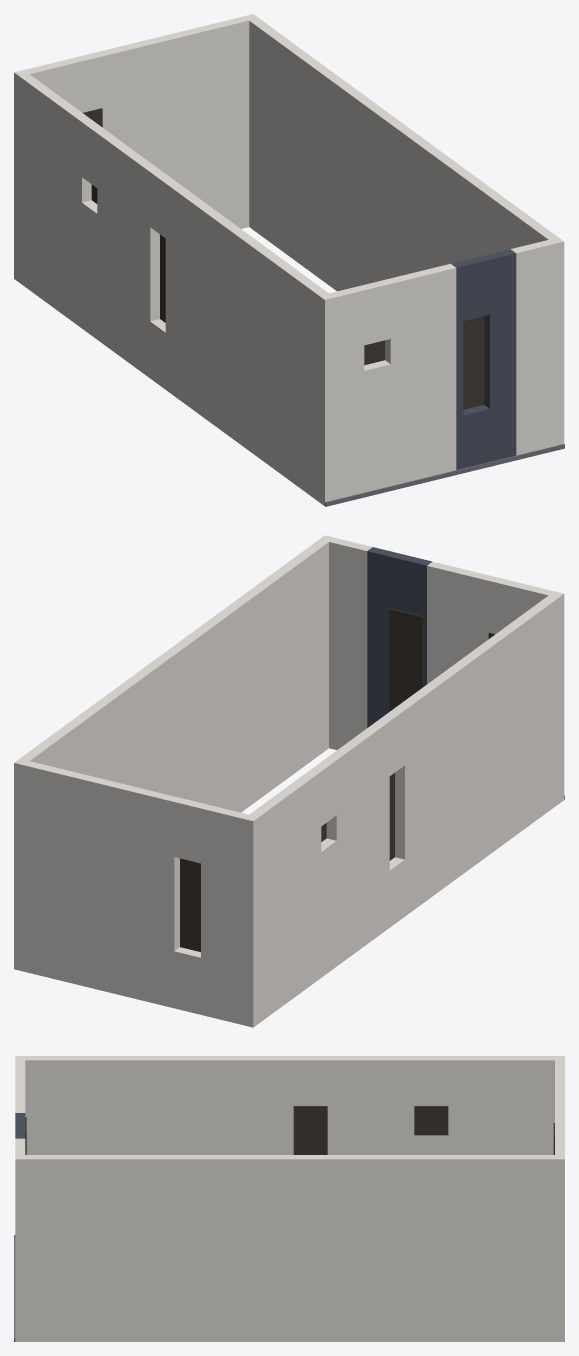
Rendered from SM_Floor_NarrowUpperScatterHighEndL_White_364_Back_01.gltf.
3 renders of one model, top to bottom at view 1: azimuth 30°, elevation 25°; view 2: azimuth 150°, elevation 25°; view 3: azimuth 270°, elevation 25°, orthographic. The views are drawn at different scales.
Visible parts, largest first — view 1: SM_Floor_NarrowUpperScatterHighEndL_White_364_Back_01; view 2: SM_Floor_NarrowUpperScatterHighEndL_White_364_Back_01; view 3: SM_Floor_NarrowUpperScatterHighEndL_White_364_Back_01.
Boxes of the visible parts, x1,y1,x2,y2 form: SM_Floor_NarrowUpperScatterHighEndL_White_364_Back_01: (14,14,564,506); SM_Floor_NarrowUpperScatterHighEndL_White_364_Back_01: (14,535,564,1027); SM_Floor_NarrowUpperScatterHighEndL_White_364_Back_01: (14,1056,564,1341).
Size of the model in its own units: 3.64 by 3 by 8.21.
1 material, 1 textured.
